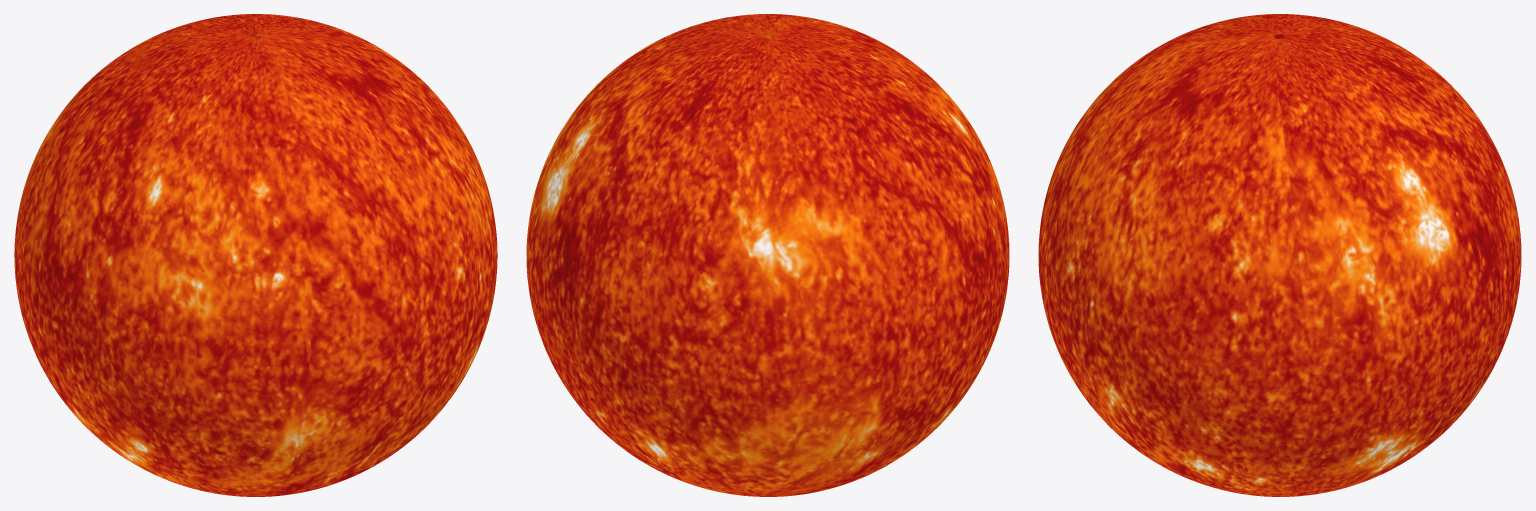
The model's file is sun.glb.
3 views of the same model, side by side, from view 1: azimuth 30°, elevation 25°; view 2: azimuth 150°, elevation 25°; view 3: azimuth 270°, elevation 25° (orthographic).
Visible parts, largest first — view 1: Sun; view 2: Sun; view 3: Sun.
Part boxes in pixels (x1,y1,x2,y2): Sun: [14, 14, 497, 496]; Sun: [526, 14, 1009, 496]; Sun: [1038, 14, 1521, 496].
Bounding box in the file's own units: 2 × 2 × 2.
1 material, 1 textured.
